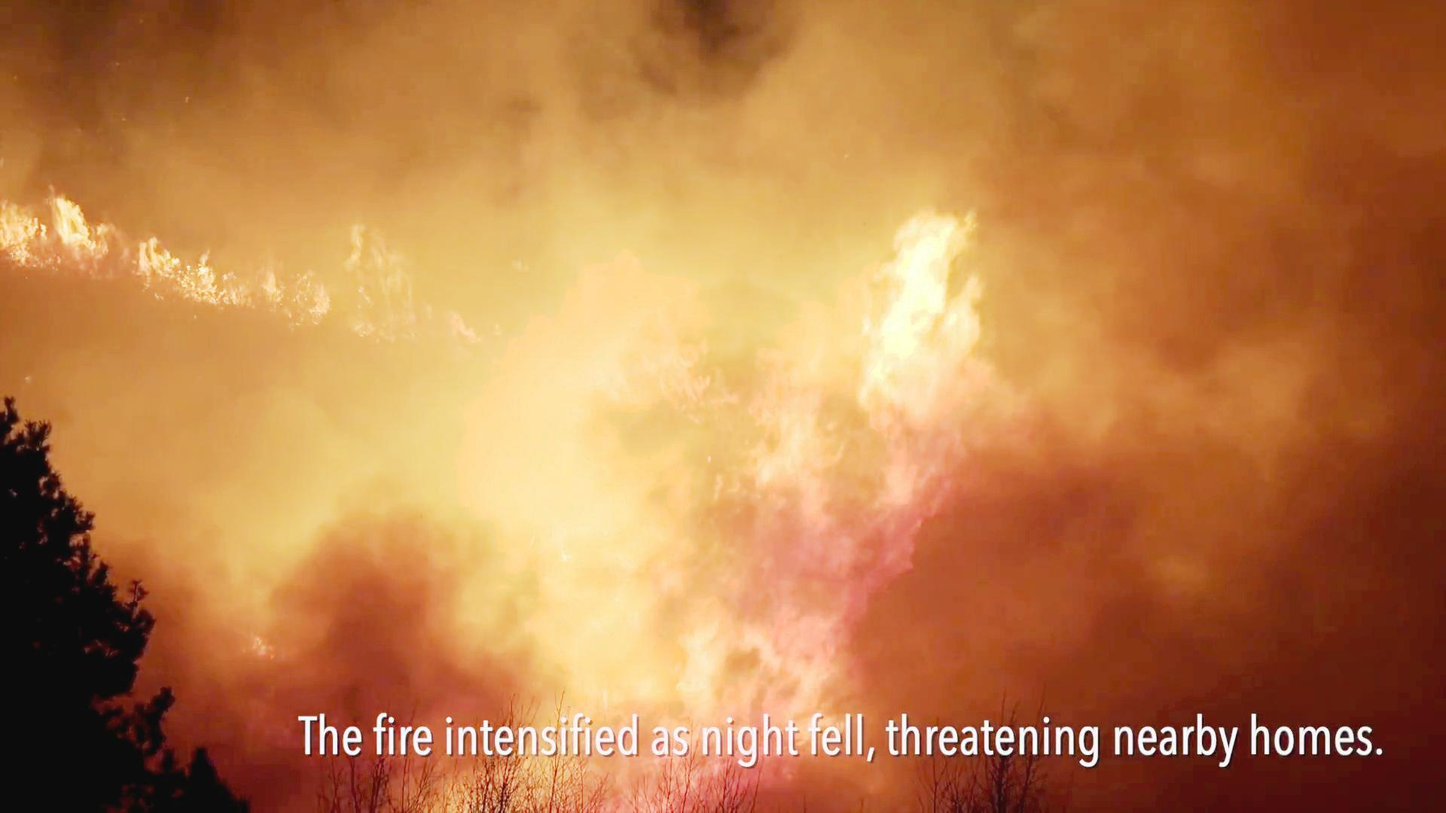fire: (529, 246, 1023, 687), (822, 200, 1025, 399), (185, 221, 433, 338), (0, 183, 173, 279)
